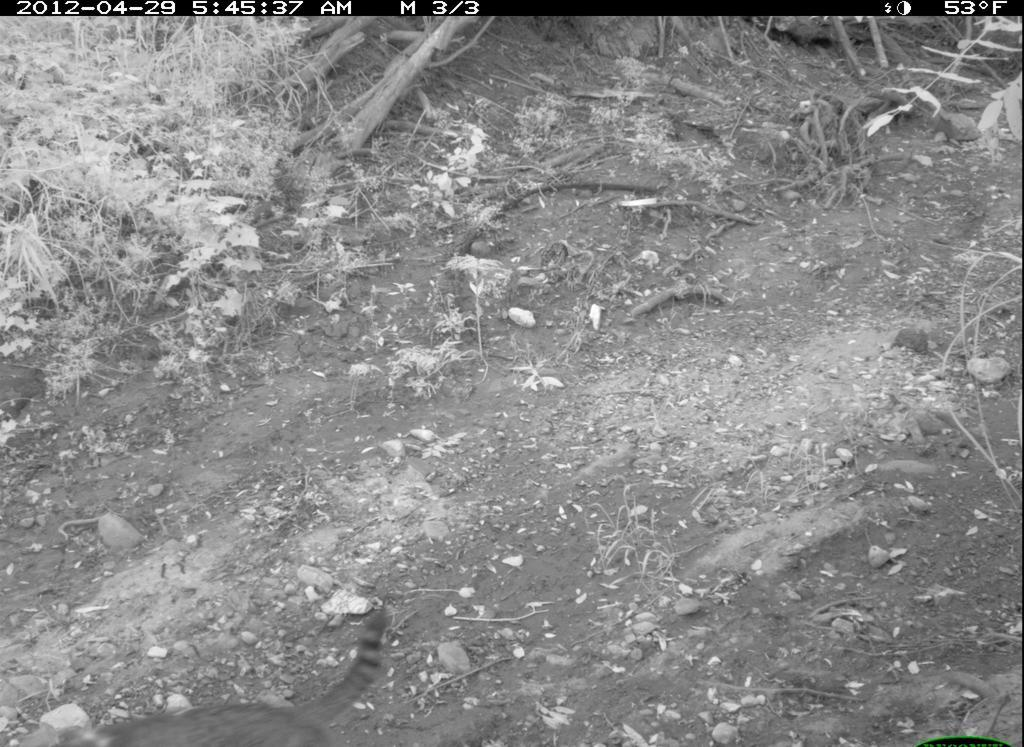cat: (16, 597, 400, 747)
